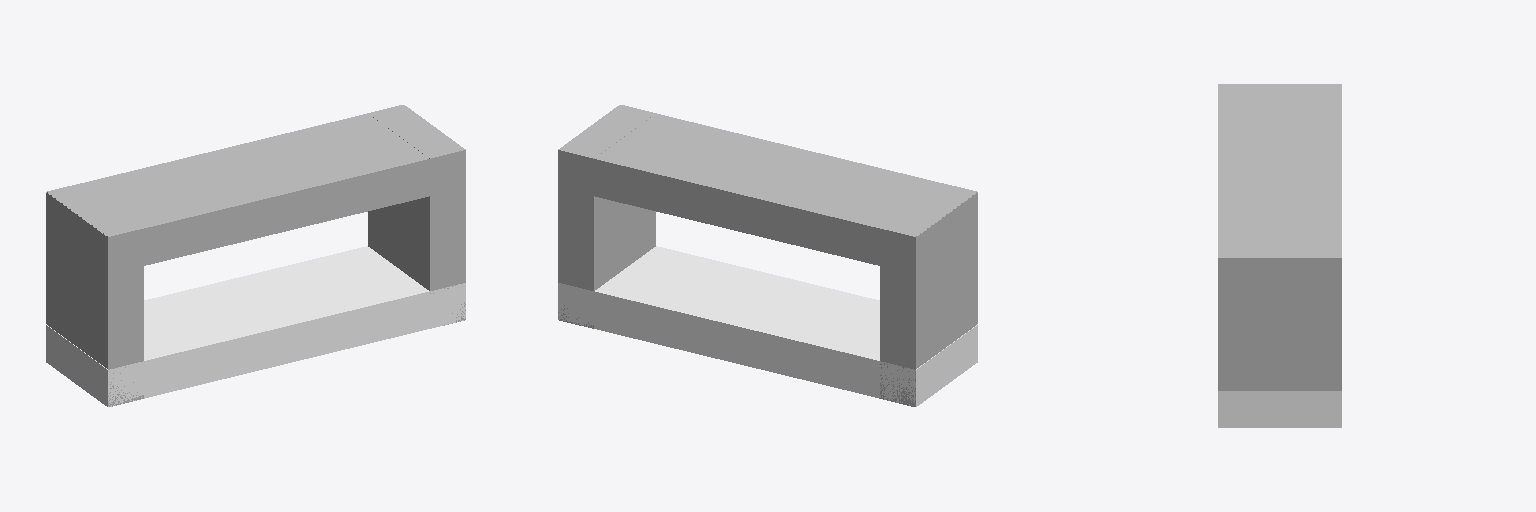
3 renders of one model, left to right at view 1: azimuth 30°, elevation 25°; view 2: azimuth 150°, elevation 25°; view 3: azimuth 270°, elevation 25°, orthographic.
Visible parts, largest first — view 1: Sphere.002; view 2: Sphere.002; view 3: Sphere.002.
Part boxes in pixels (x1,y1,x2,y2): Sphere.002: (46,105,465,406); Sphere.002: (558,105,977,406); Sphere.002: (1218,84,1341,427).
Size of the model in its own units: 2 by 0.9088 by 0.6.
Materials: 4 (1 with a texture image).